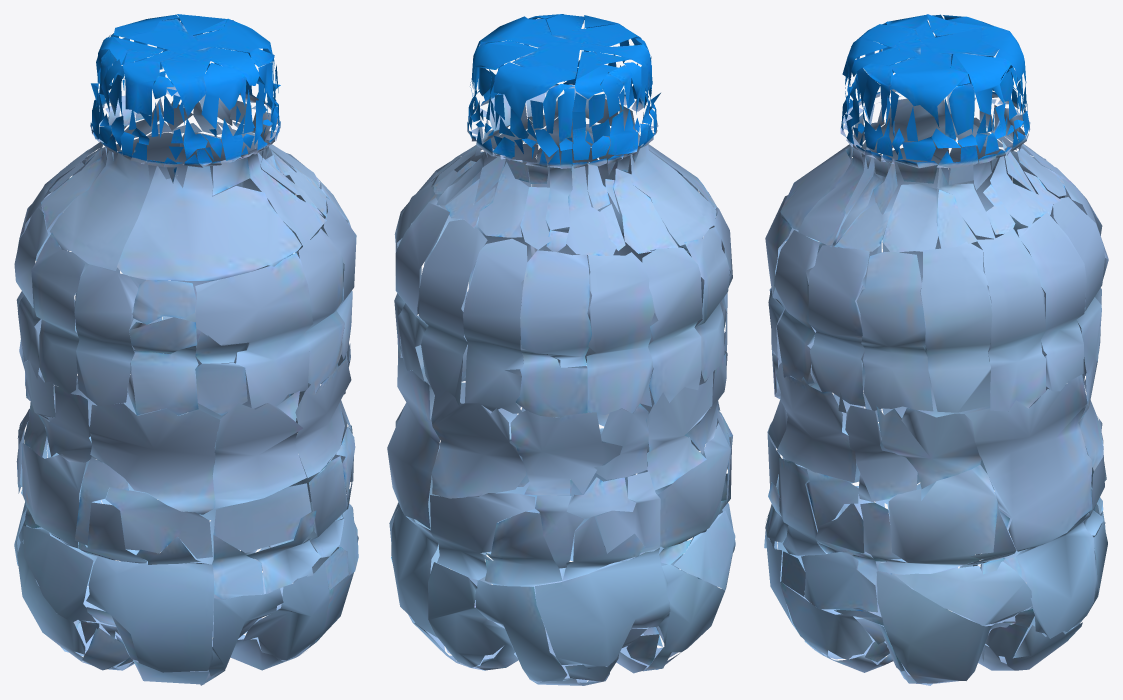
Rendered from waste-bottle.glb.
3 views of the same model, side by side, from view 1: azimuth 30°, elevation 25°; view 2: azimuth 150°, elevation 25°; view 3: azimuth 270°, elevation 25° (orthographic).
Visible parts, largest first — view 1: Mesh_0; view 2: Mesh_0; view 3: Mesh_0.
Part boxes in pixels (<box>): Mesh_0: <box>14,14,358,685</box>; Mesh_0: <box>387,14,735,685</box>; Mesh_0: <box>764,14,1108,685</box>.
Bounding box in the file's own units: 0.9958 × 1.91 × 0.9971.
Materials: 1 (1 with a texture image).
